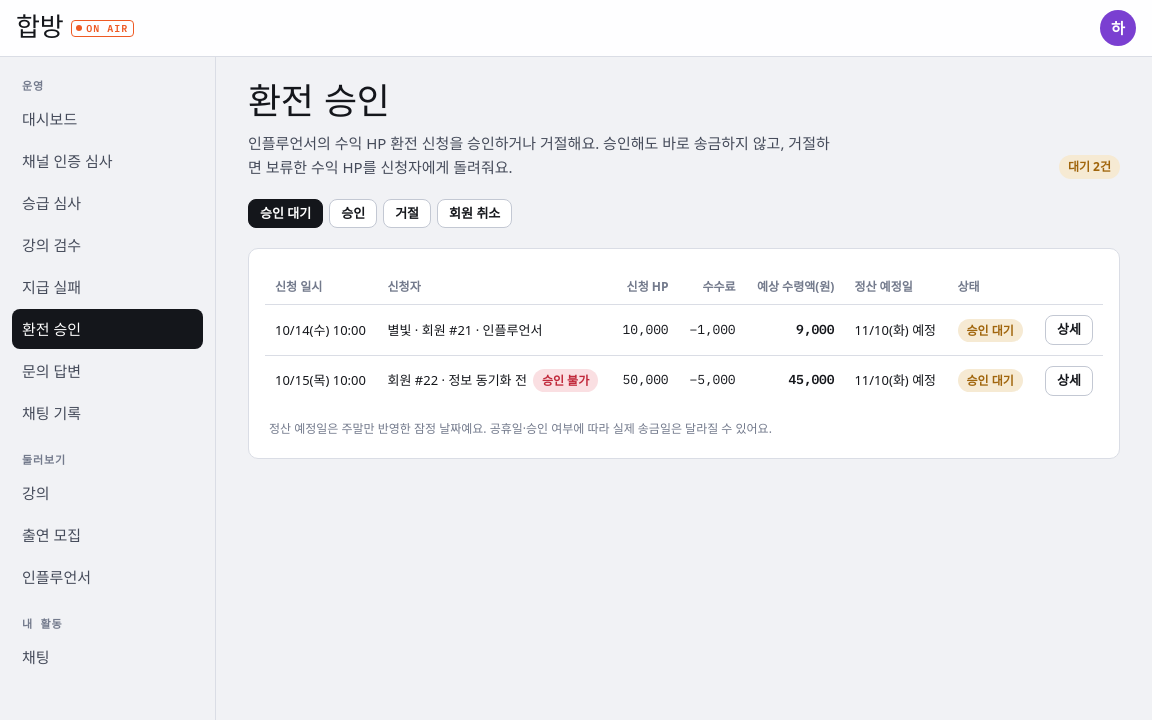
Scenario: 관리자 환전 목록 › 목록에서 상세를 열 수 있다
Click the link "상세" in the row of "10/14(수) 10:00" at (1069, 330), box [1045,315,1093,345]
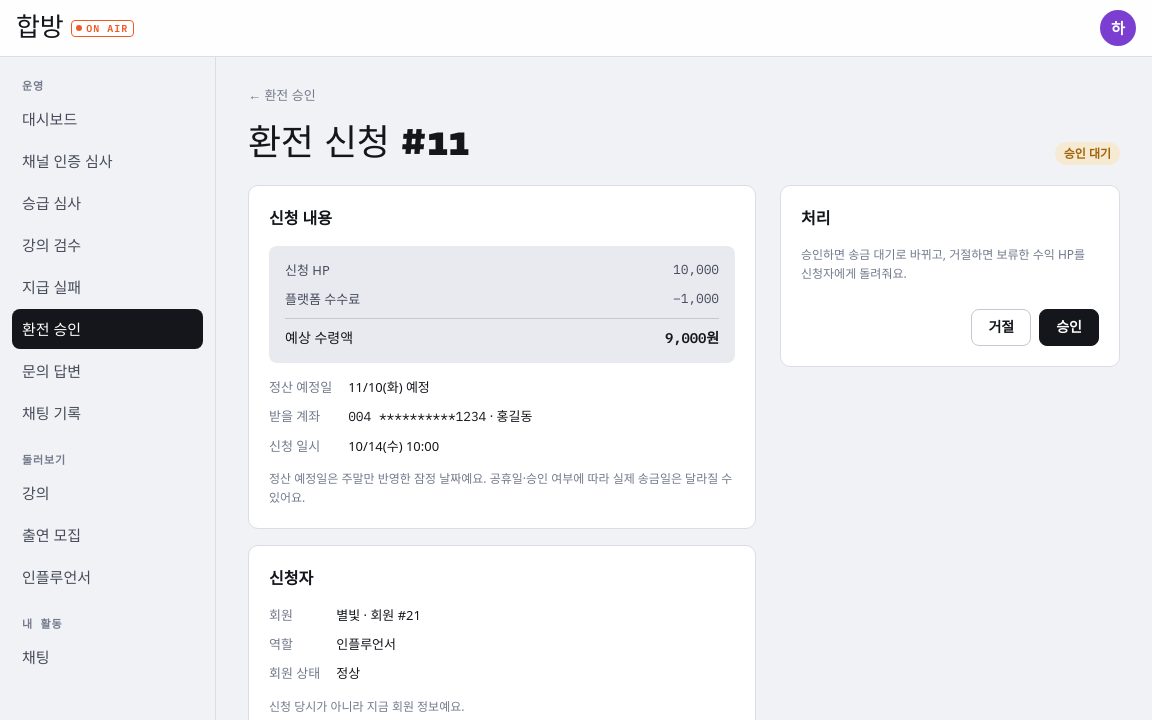
Expected: the heading "환전 신청 #11" is shown, [248,126,469,165]
